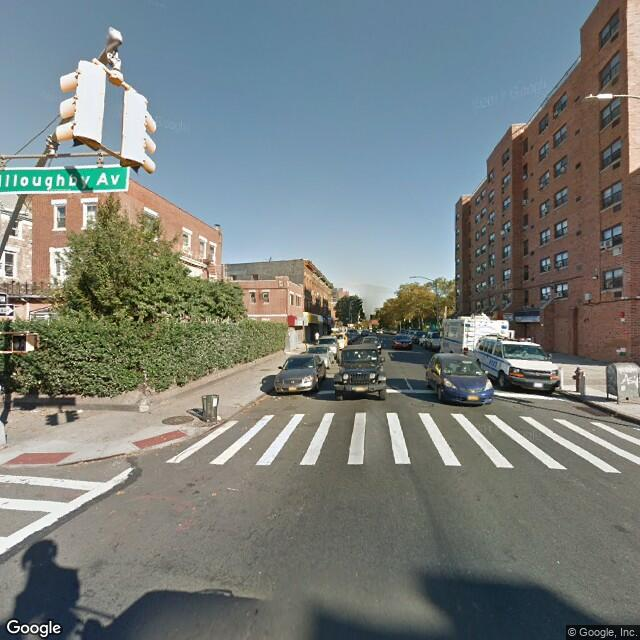litter: (269, 393, 286, 400), (76, 407, 88, 414), (216, 414, 223, 420), (246, 447, 255, 450)
